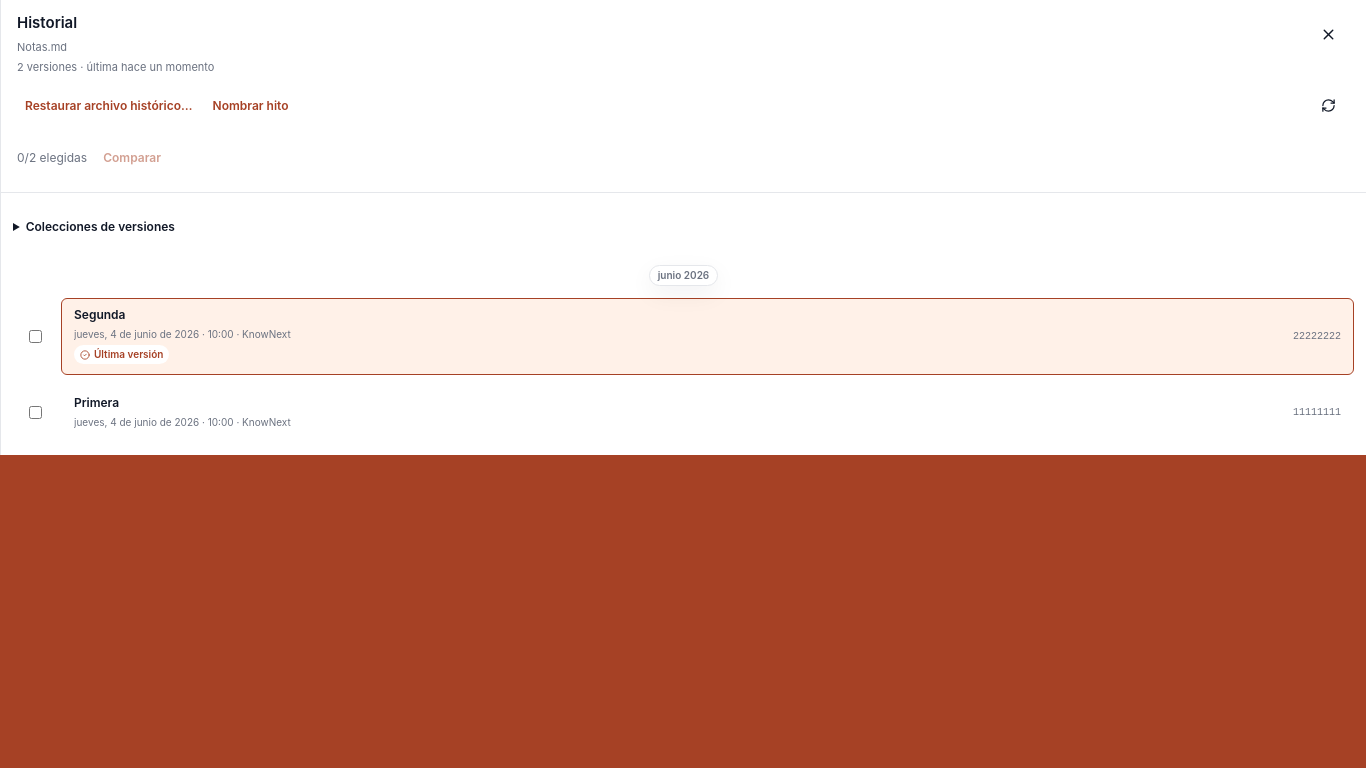
Test case: hitos y comparación elegible › concilia un acuse perdido de hito por lectura sin repetir la escritura
The image size is (1366, 768).
expect the text "22222222" is shown: met, box [1293,328,1341,344]
Click the button "Nombrar hito". click: (250, 106)
box: [204,84,296,128]
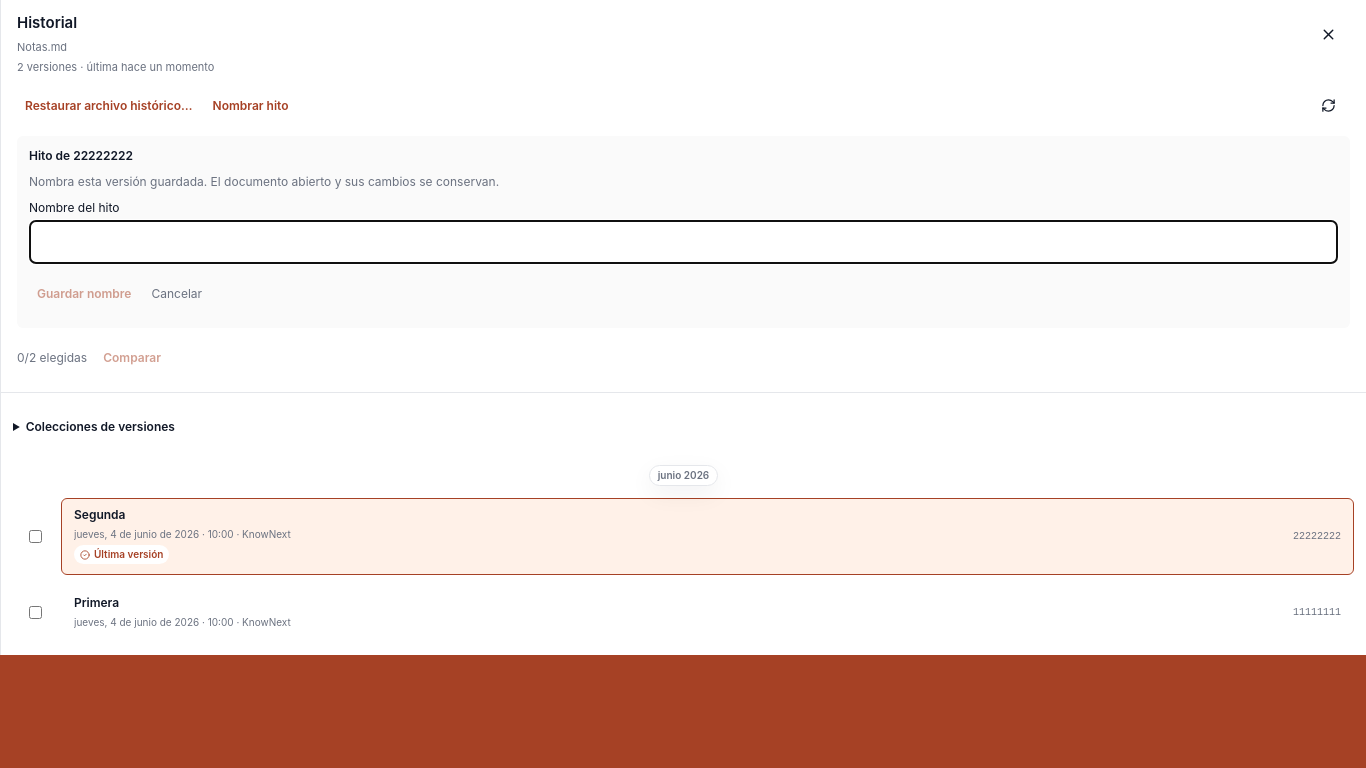
Type "Entrega aprobada" into the field labelled "Nombre del hito". click: (684, 242)
box: [29,220,1338,264]
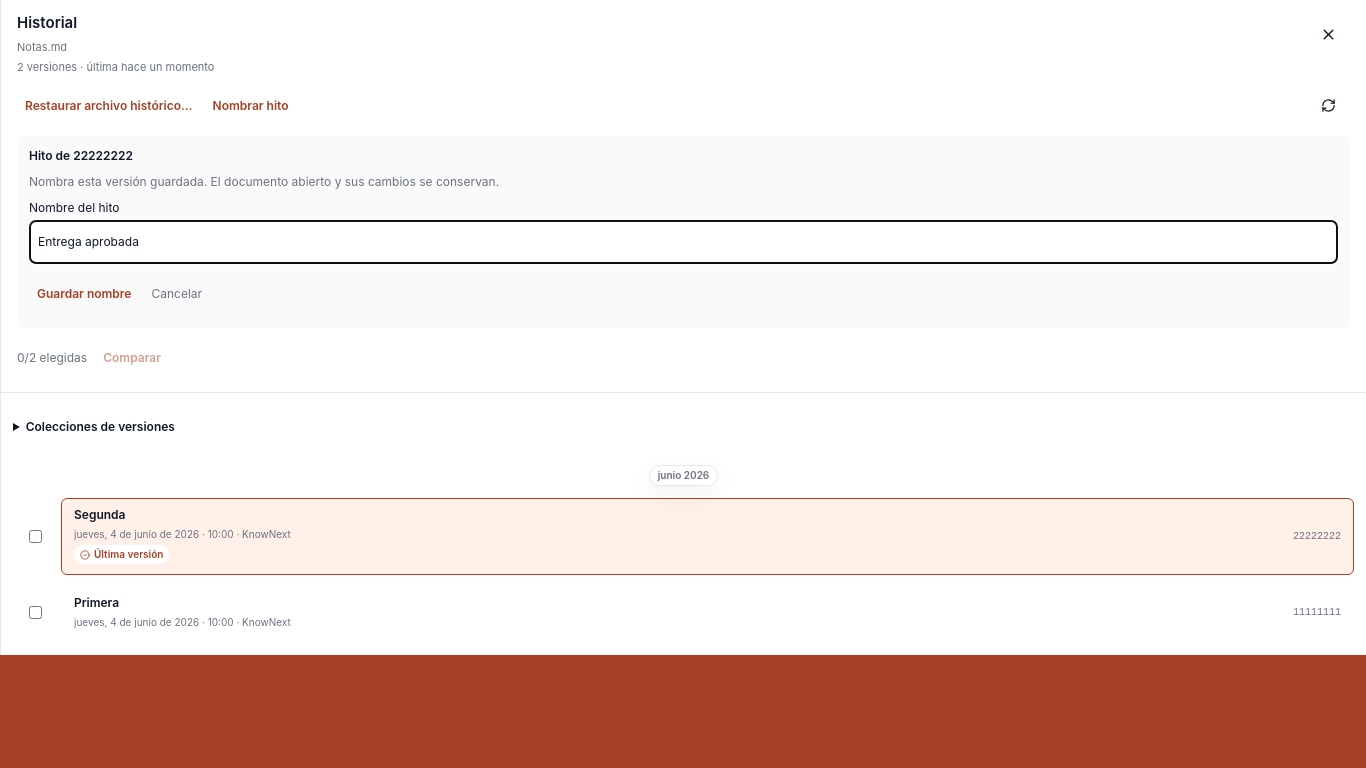
Click the button "Guardar nombre". click: (84, 294)
box: [29,272,139,316]
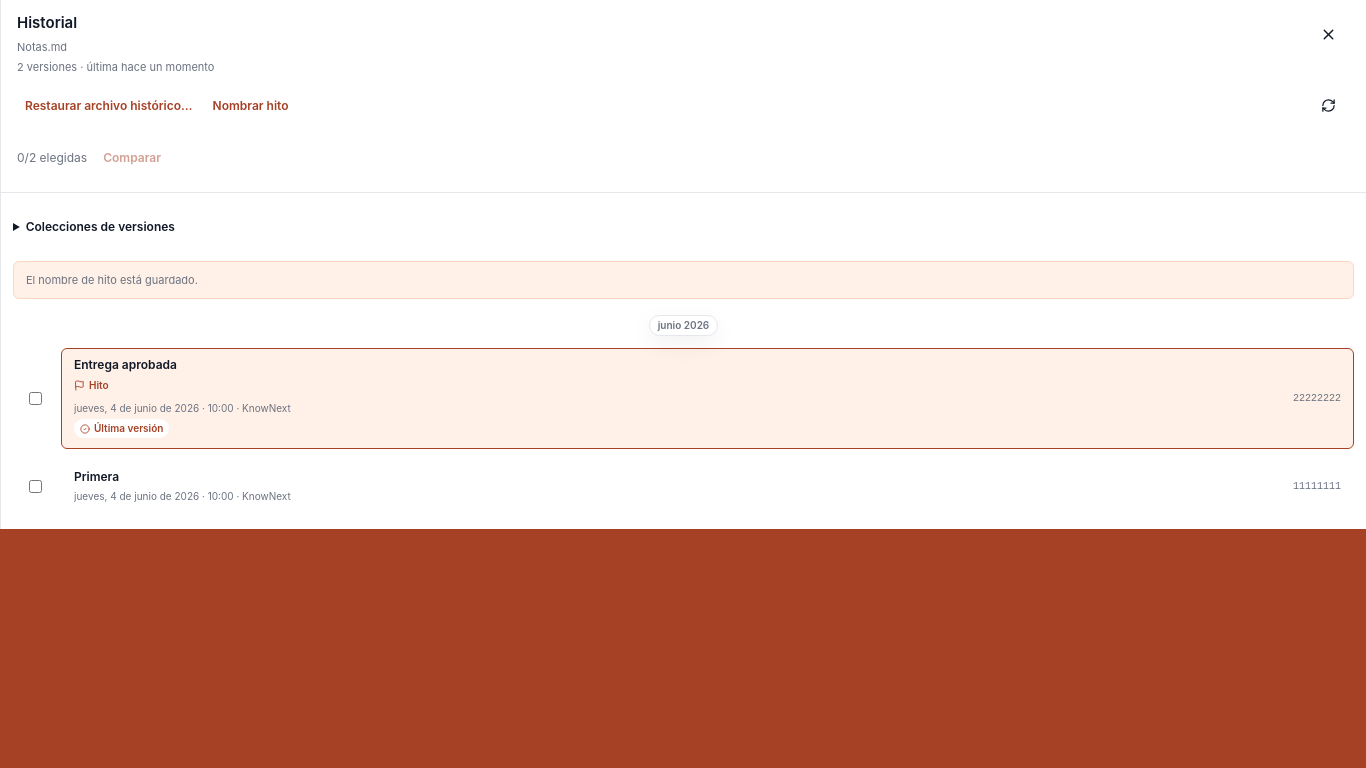
expect the text "El nombre de hito está guardado." is shown: met, box [13,260,1354,298]
expect the field is gone: met
